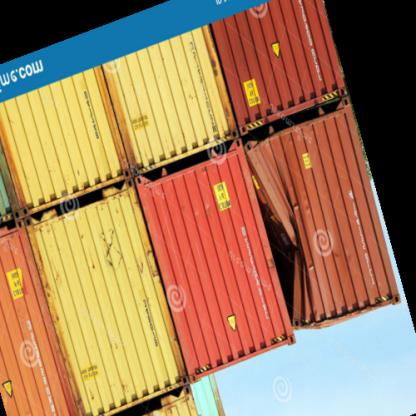Damage: (247, 169, 311, 322), (193, 46, 231, 124), (82, 213, 122, 278)
